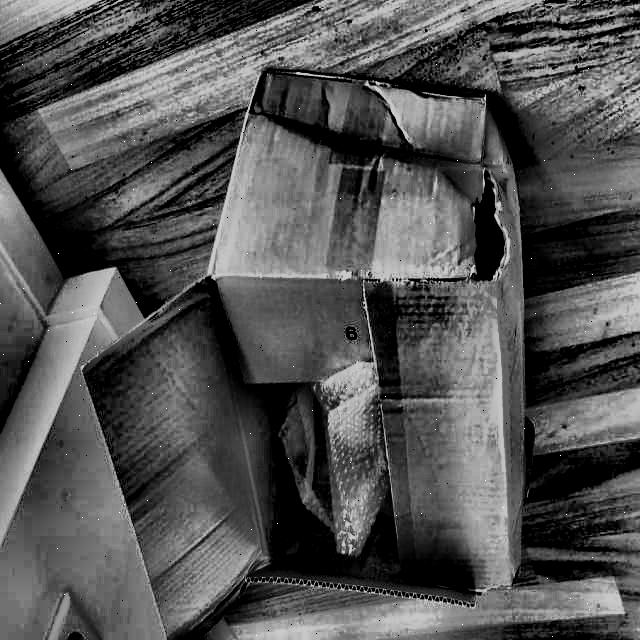box: (62, 52, 552, 640)
hole: (467, 167, 512, 291)
